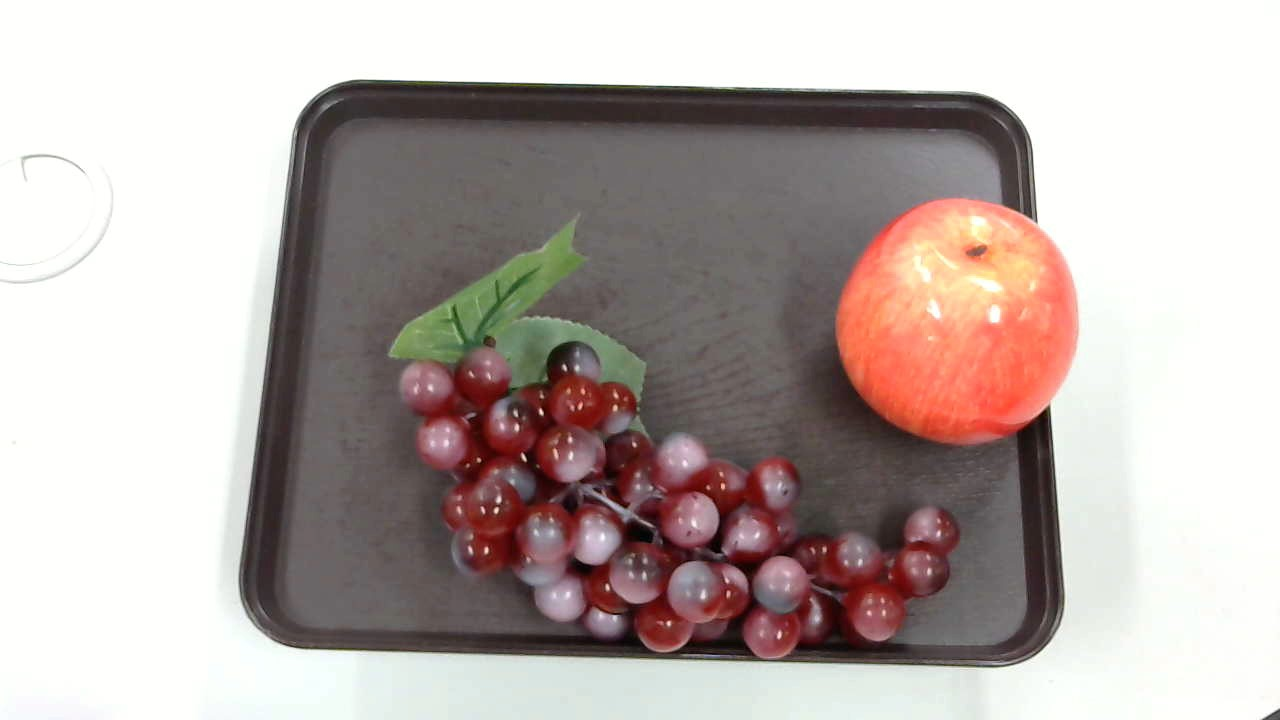grape: (386, 213, 969, 669)
red apple: (829, 188, 1090, 449)
